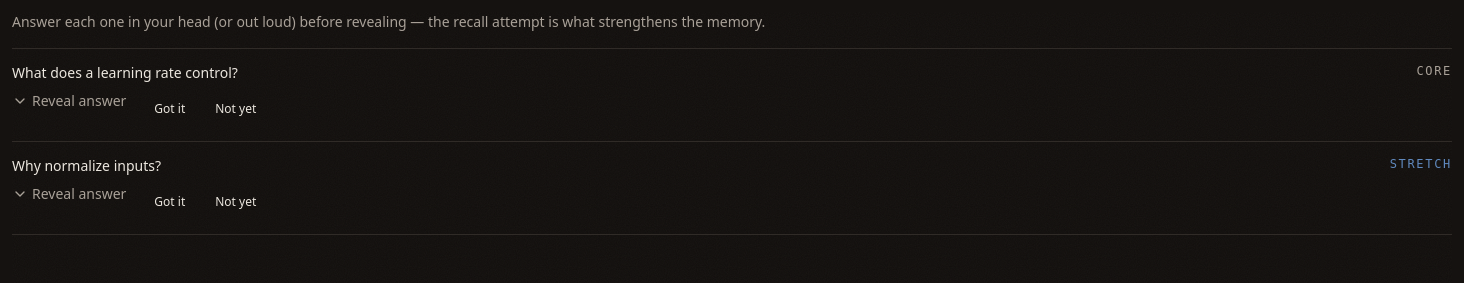
Test: CourseRecallList — self-grading (wave F) › the answer stays hidden until revealed — the recall attempt is the exercise
Check: the text "Step size." is not shown
Click the button "Reveal answer" below "What does a learning rate control?" at coordinates (69, 101), box [12, 91, 126, 111]
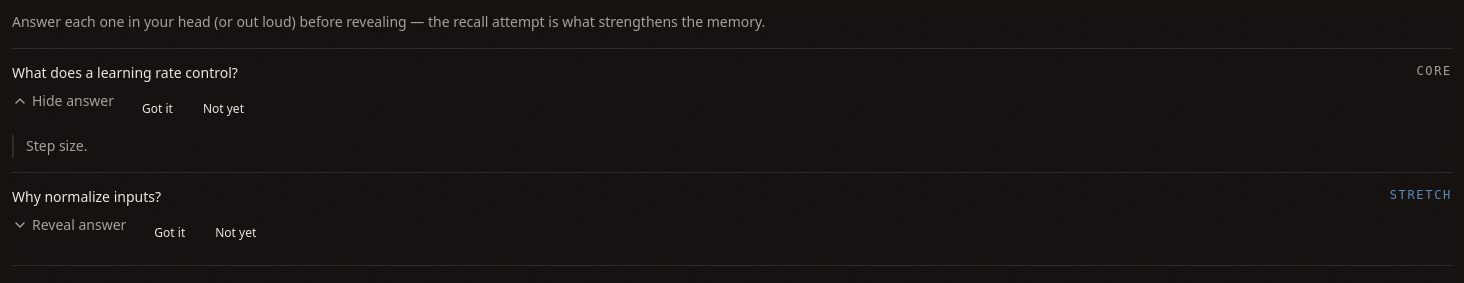
Check: the text "Step size." is shown, box [12, 135, 532, 158]
